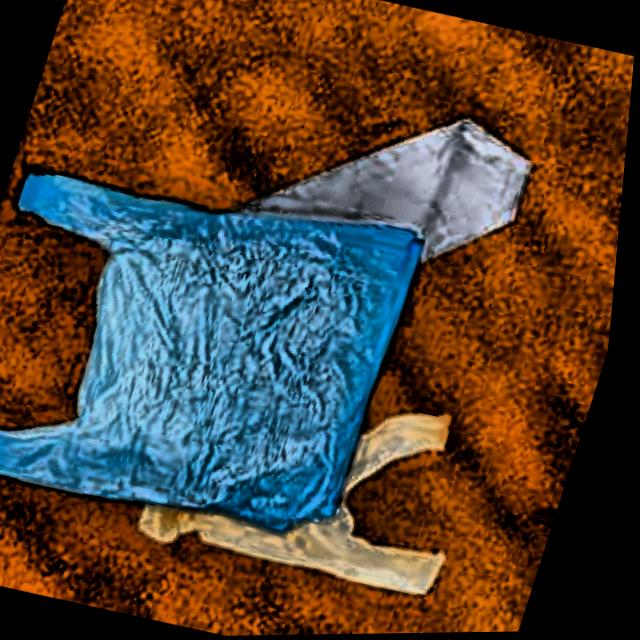Plastic: (0, 147, 464, 570), (175, 58, 590, 374), (138, 352, 536, 637)
